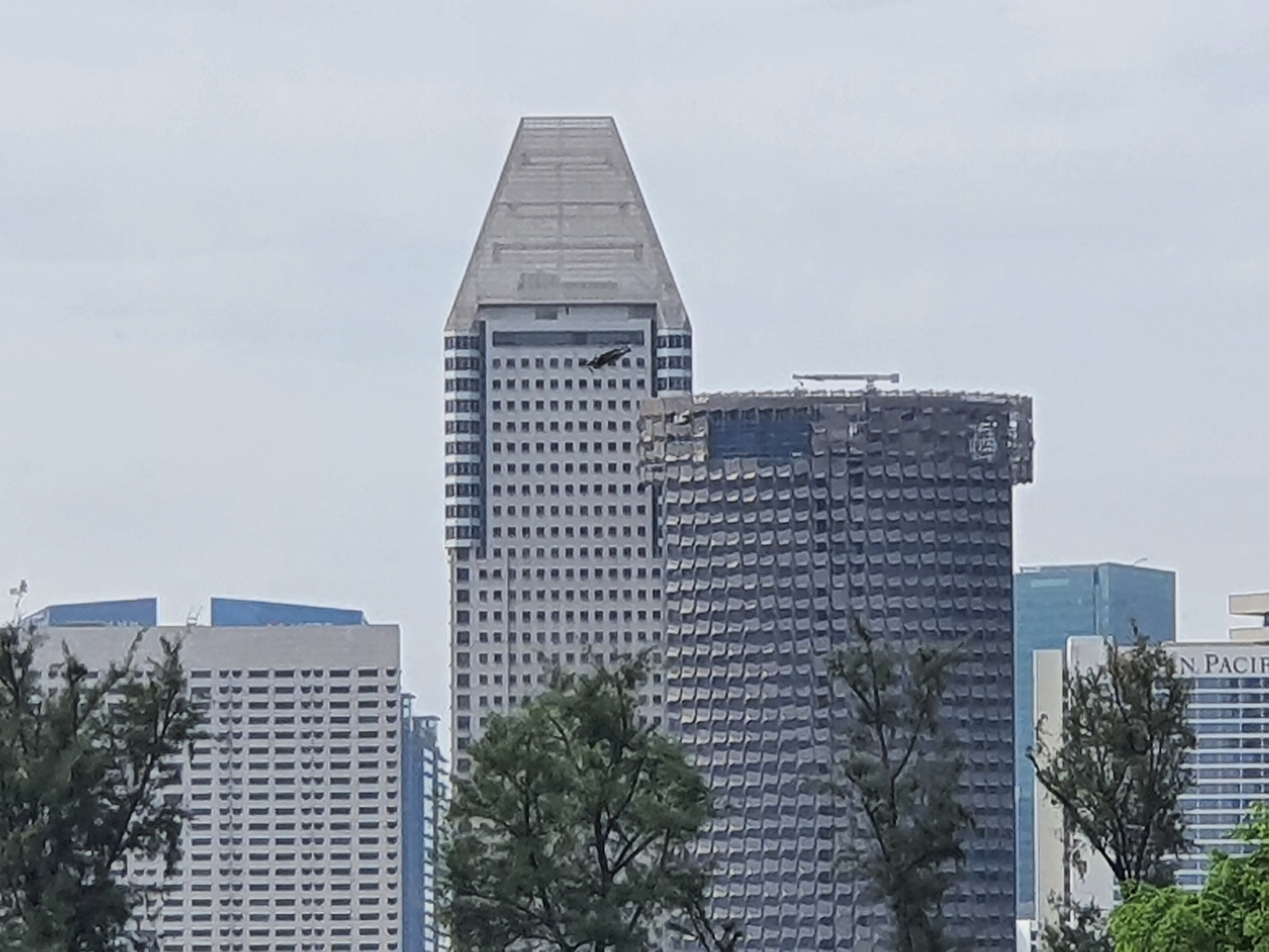drone_other: (573, 342, 633, 376)
